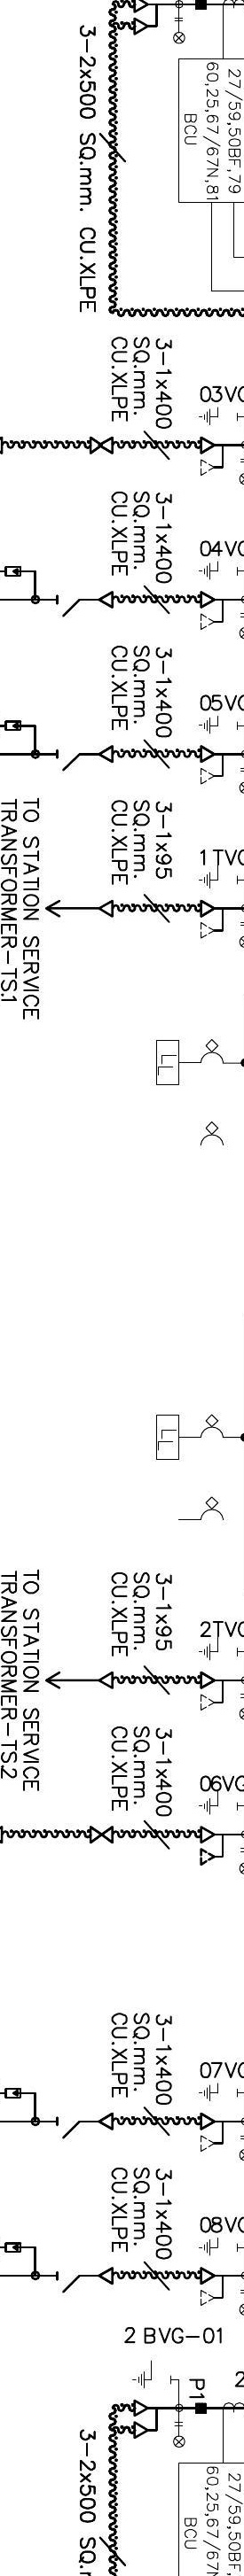22_gs: (132, 2361, 173, 2389), (198, 1636, 239, 1661), (198, 1791, 239, 1815), (199, 864, 239, 889), (198, 2081, 239, 2103), (198, 2236, 239, 2257), (198, 406, 239, 425), (199, 560, 239, 580), (199, 715, 239, 734)
22_ll: (171, 16, 186, 44), (173, 2422, 186, 2449)
LL: (155, 1413, 181, 1460), (155, 1038, 180, 1088)
terminator_double: (134, 2399, 160, 2440)
terminator_single: (97, 2265, 115, 2285), (97, 2111, 115, 2131), (97, 1671, 114, 1690), (99, 899, 115, 918), (97, 744, 114, 764), (99, 590, 115, 609)
terminator_splicing_kits: (89, 435, 114, 455), (89, 1825, 114, 1843)
terminator_w_future: (199, 435, 226, 478), (199, 590, 226, 632), (199, 744, 226, 785), (199, 899, 226, 940), (199, 1671, 226, 1712), (199, 2113, 226, 2154), (199, 1825, 224, 1866), (199, 2265, 224, 2307)
